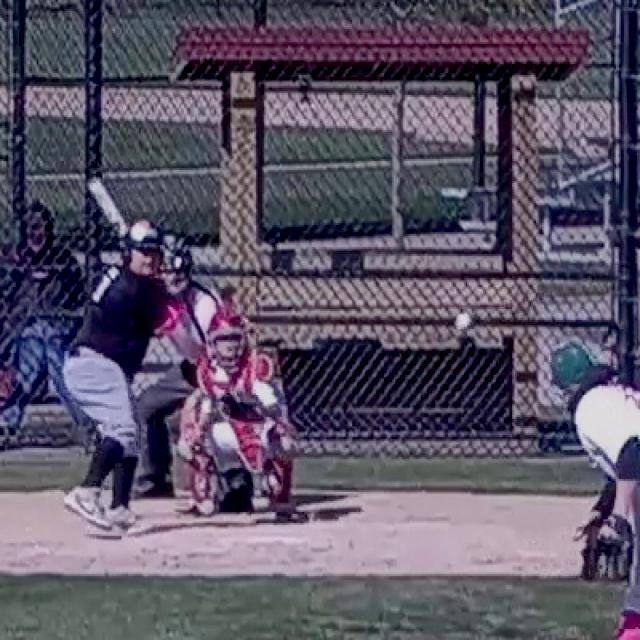ball: (455, 314, 473, 334)
bat: (85, 174, 129, 238)
